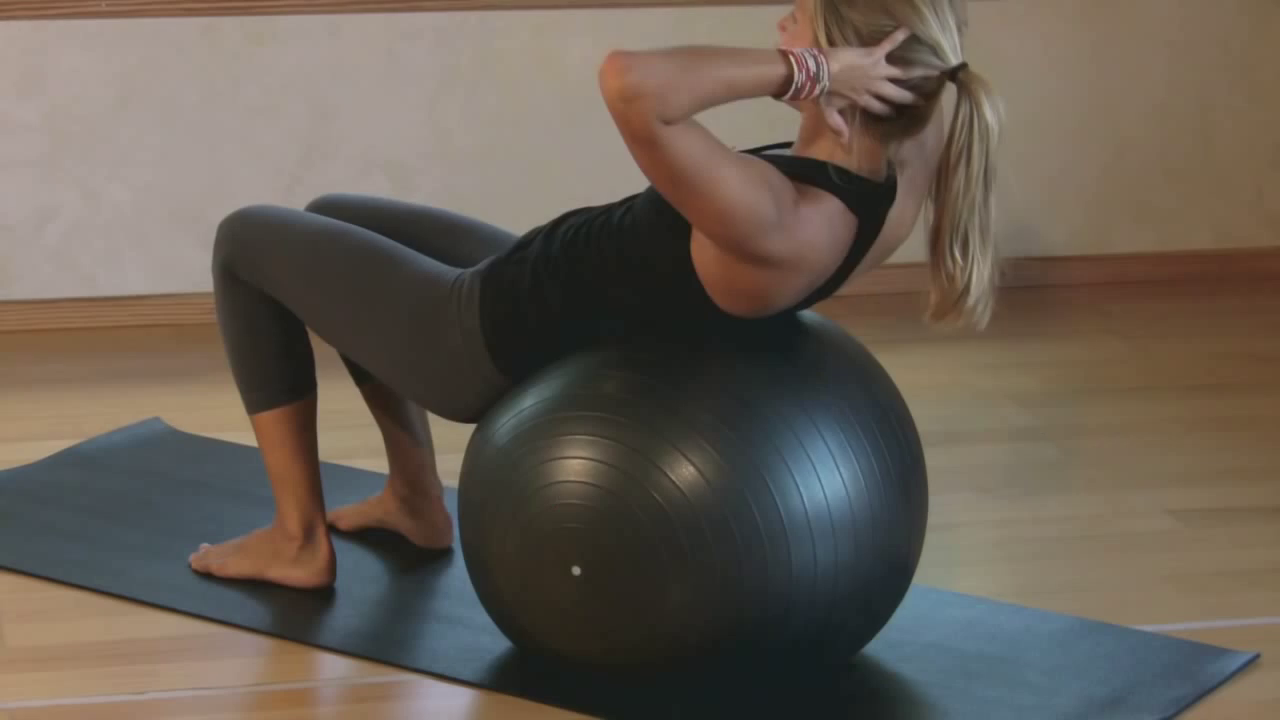yogaball: (447, 304, 941, 696)
